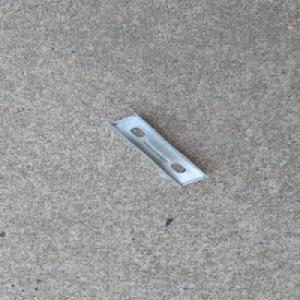ClampPart: (101, 110, 210, 189)
